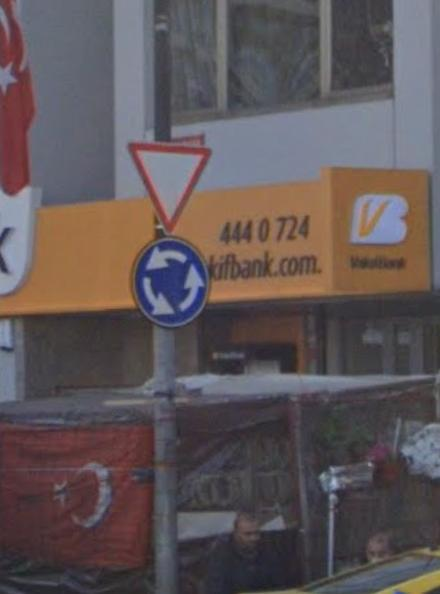crossroads: (133, 237, 211, 326)
